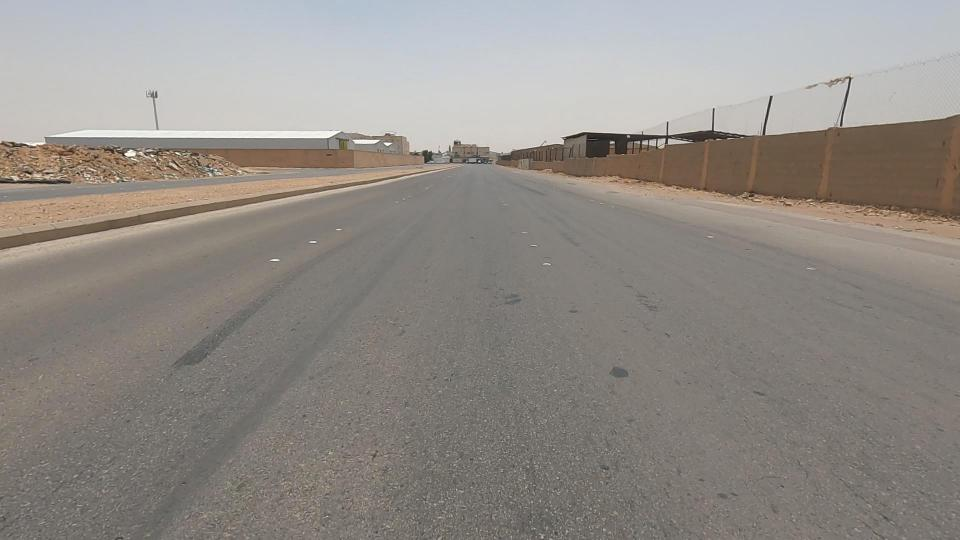GARBAGE: (94, 133, 183, 186), (169, 145, 254, 193)
